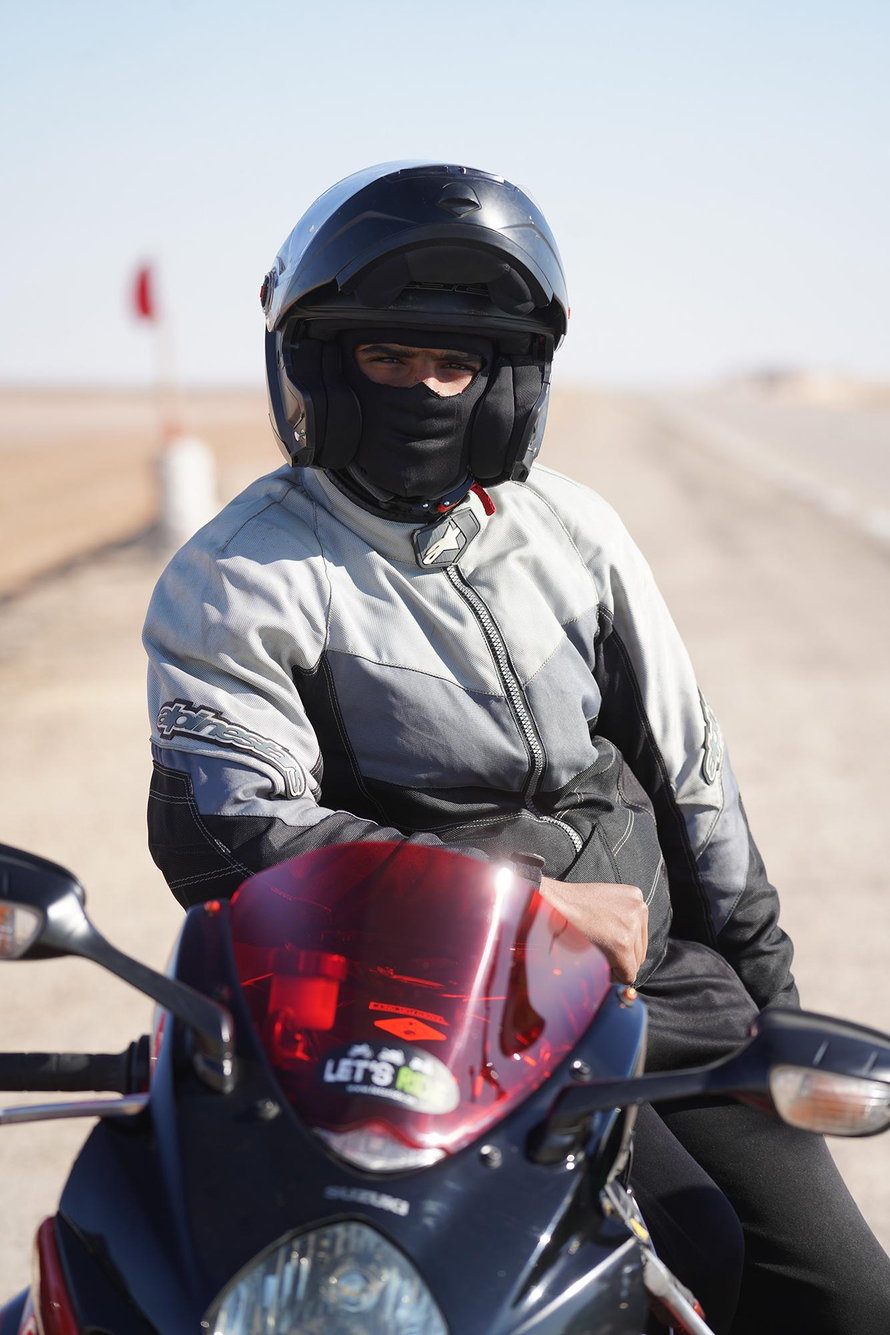helmet: (258, 156, 572, 521)
